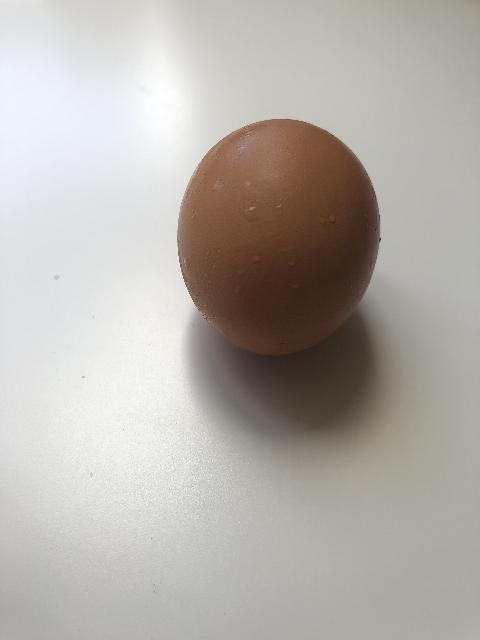Sano: (176, 117, 382, 357)
